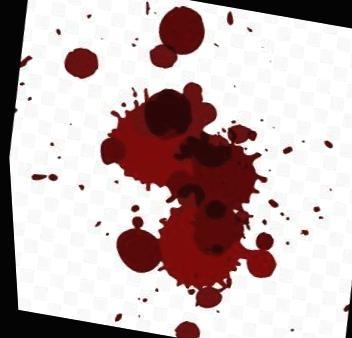Fire: (98, 80, 274, 308), (148, 5, 205, 68), (63, 47, 98, 78), (170, 320, 196, 338)
